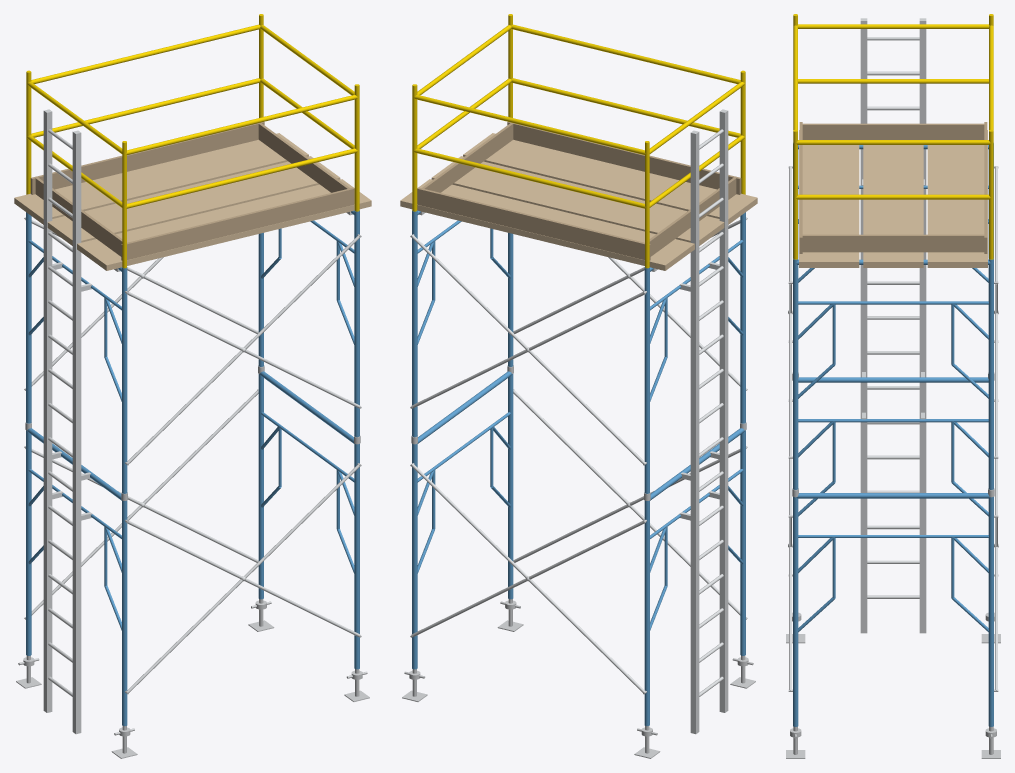
File: Frame_Scaffold_Tower.glb
The picture shows the model from 3 angles, left to right: view 1: azimuth 30°, elevation 25°; view 2: azimuth 150°, elevation 25°; view 3: azimuth 270°, elevation 25°; orthographic projection. The views are drawn at different scales.
Parts seen in each view (by area): view 1: planks, frames, ladder, toeboards, guardrails, cross_braces, base_jacks; view 2: planks, frames, ladder, toeboards, guardrails, cross_braces, base_jacks; view 3: planks, frames, ladder, toeboards, guardrails, cross_braces, base_jacks.
Boxes of the visible parts, x1,y1,x2,y2 form: planks: (14, 133, 371, 270); frames: (26, 210, 359, 726); ladder: (43, 109, 92, 734); toeboards: (30, 122, 354, 260); guardrails: (26, 14, 359, 268); cross_braces: (25, 220, 360, 692); base_jacks: (16, 599, 369, 758); planks: (400, 133, 757, 270); frames: (412, 210, 745, 726); ladder: (679, 109, 728, 734); toeboards: (417, 122, 741, 260); guardrails: (412, 14, 745, 268); cross_braces: (411, 220, 746, 692); base_jacks: (402, 599, 755, 758); planks: (799, 130, 987, 267); frames: (793, 143, 993, 726); ladder: (860, 18, 926, 633); toeboards: (799, 122, 987, 253); guardrails: (793, 14, 993, 259); cross_braces: (788, 166, 998, 690); base_jacks: (786, 612, 1000, 758).
Bounding box in the file's own units: 2.44 × 5.36 × 1.67.
